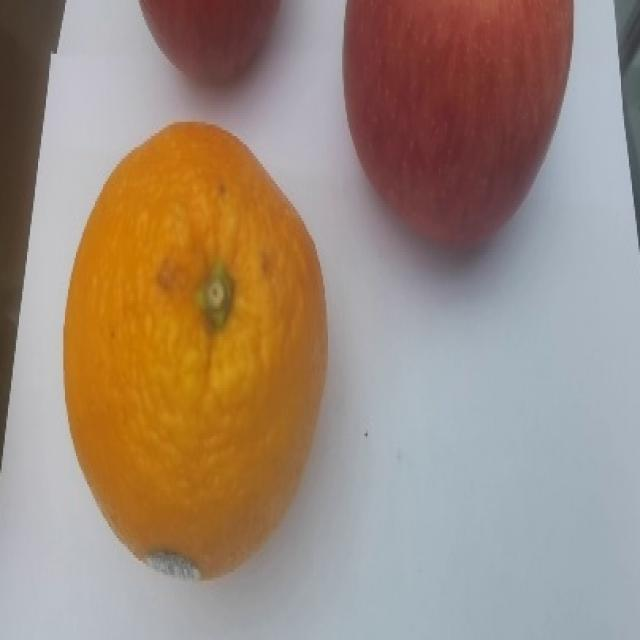Apple: (341, 0, 570, 254), (137, 0, 278, 84)
Orange: (56, 122, 332, 579)
